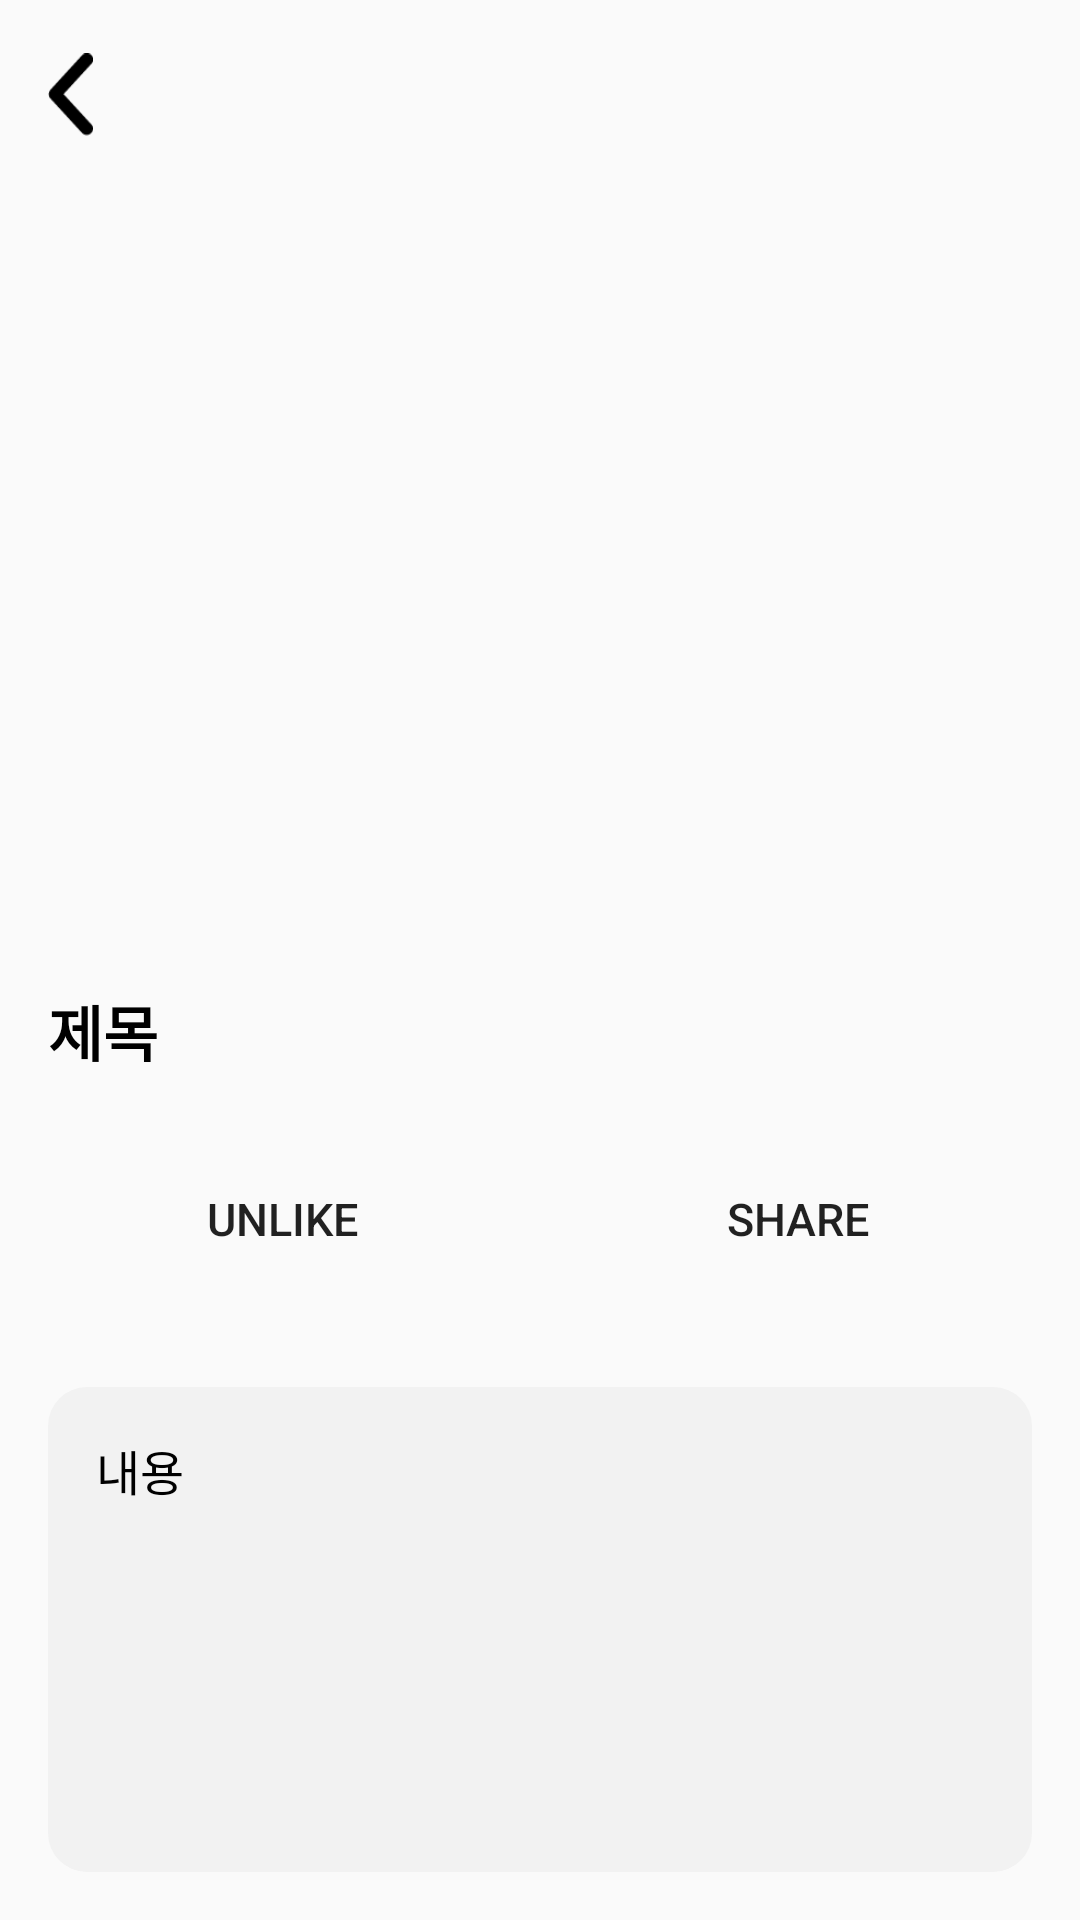

Icons on this 1080w x 1920h Android screen, each with the point to tap as point (x, y):
back: point (70, 94)
